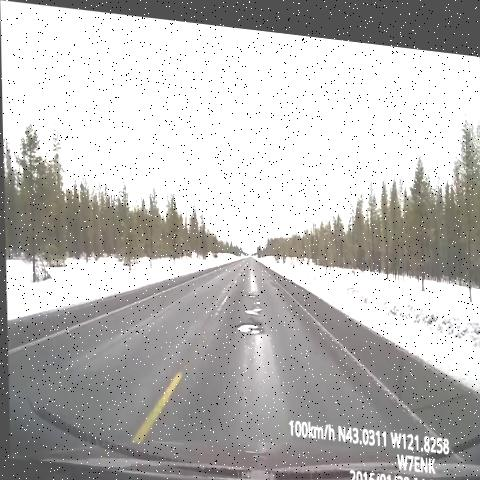pothole: (231, 308, 263, 342), (239, 276, 265, 312)
